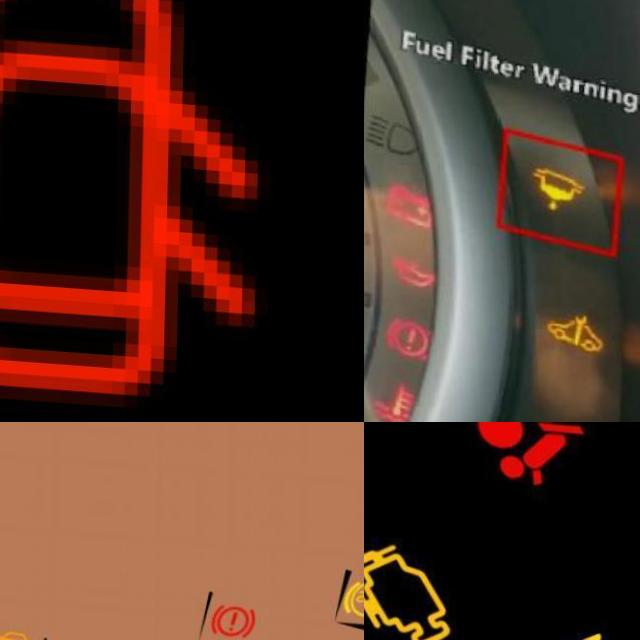Doors: (0, 0, 250, 395)
Engine cooling system: (364, 363, 418, 422)
